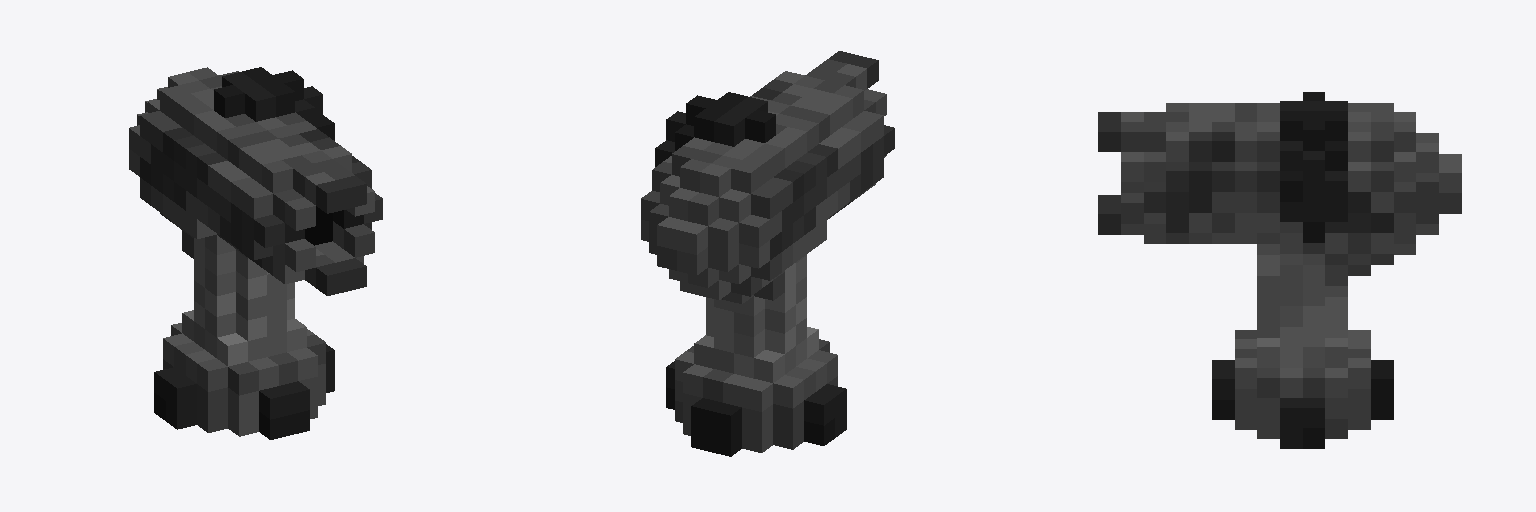
3 renders of one model, left to right at view 1: azimuth 30°, elevation 25°; view 2: azimuth 150°, elevation 25°; view 3: azimuth 270°, elevation 25°, orthographic.
Parts seen in each view (by area): view 1: object 1; view 2: object 1; view 3: object 1.
Part boxes in pixels (bbox=[...]): object 1: bbox=[129, 67, 382, 439]; object 1: bbox=[641, 51, 894, 456]; object 1: bbox=[1098, 92, 1461, 448].
Size of the model in its own units: 0.8 by 1.5 by 1.6.
1 materials, 1 textured.